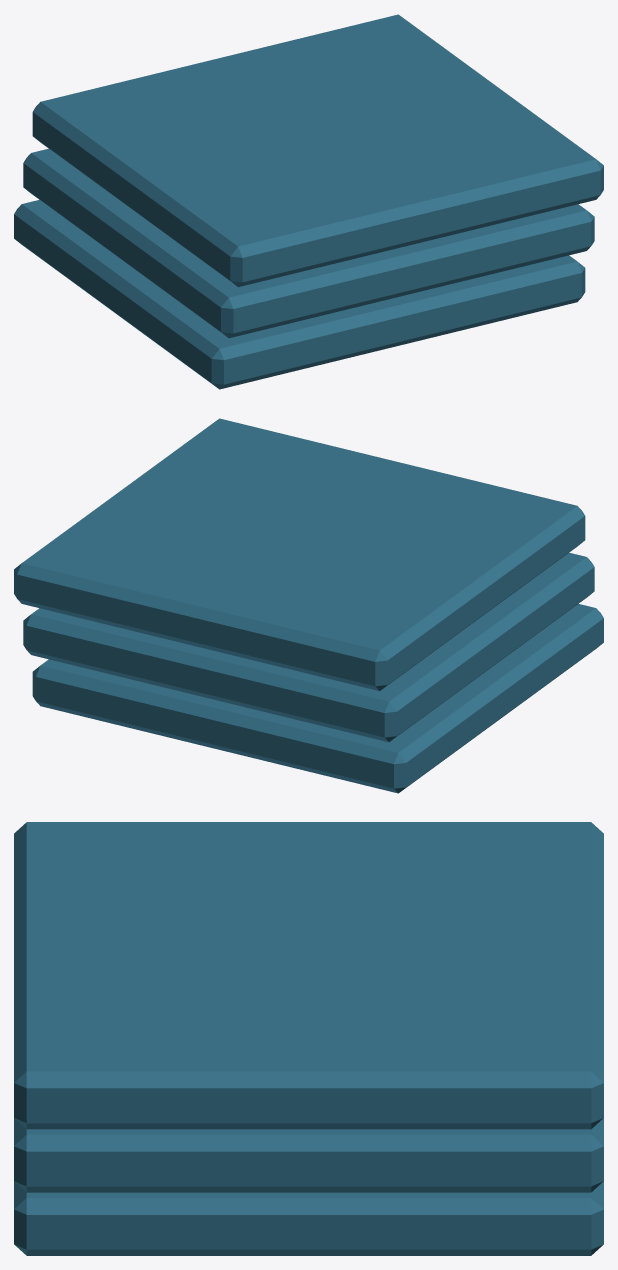
File: set_ring_binder.glb
The picture shows the model from 3 angles, top to bottom: view 1: azimuth 30°, elevation 25°; view 2: azimuth 150°, elevation 25°; view 3: azimuth 270°, elevation 25°; orthographic projection. The views are drawn at different scales.
Visible parts, largest first — view 1: set_ring_binder; view 2: set_ring_binder; view 3: set_ring_binder.
Boxes of the visible parts, x1,y1,x2,y2 form: set_ring_binder: [14, 14, 603, 389]; set_ring_binder: [14, 418, 603, 793]; set_ring_binder: [14, 822, 603, 1255].
Bounding box in the file's own units: 0.252 × 0.085 × 0.23.
